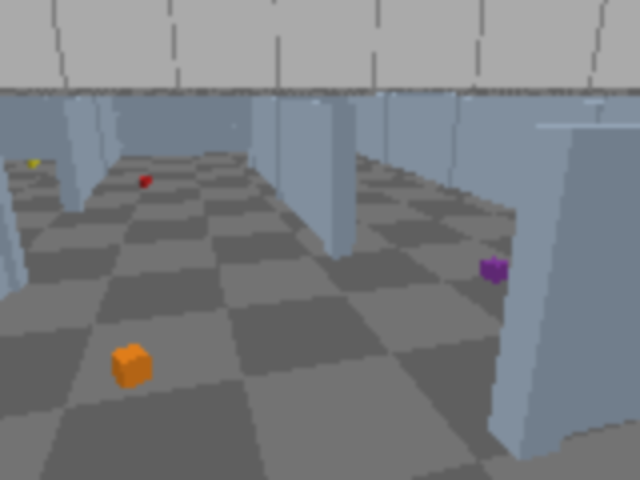puck: (111, 343, 153, 391), (480, 258, 510, 283)
